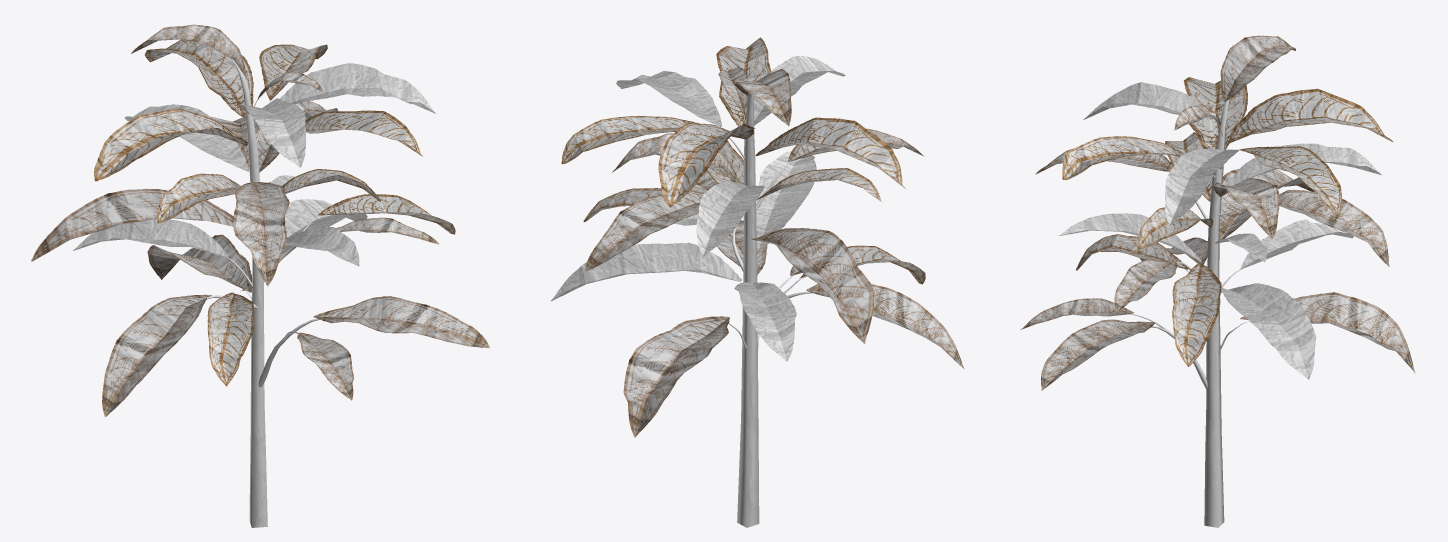
Rendered from sapling-v6.gltf.
3 renders of one model, left to right at view 1: azimuth 30°, elevation 25°; view 2: azimuth 150°, elevation 25°; view 3: azimuth 270°, elevation 25°, orthographic. The views are drawn at different scales.
Visible parts, largest first — view 1: tree.022, 18-ppleaf-full.020, 12-ppleaf-full.019, 22-ppleaf-full.017, 5-ppleaf-mid.013, 10-ppleaf-full.010, 6-ppleaf-none.006, 19-ppleaf-mid.015, 5-ppleaf-mid.001, 17-ppleaf-none.015, 20-ppleaf-full.014, 2-ppleaf-none.014 (+13 smaller); view 2: tree.022, 20-ppleaf-full.014, 12-ppleaf-full.019, 21-ppleaf-none.003, 5-ppleaf-mid.001, 5-ppleaf-mid.013, 8-ppleaf-full.006, 17-ppleaf-none.015, 14-ppleaf-none.002, 7-ppleaf-none.005, 18-ppleaf-full.020, 3-ppleaf-mid.014 (+12 smaller); view 3: tree.022, 21-ppleaf-none.003, 5-ppleaf-mid.001, 16-ppleaf-mid.002, 20-ppleaf-full.014, 22-ppleaf-full.017, 6-ppleaf-none.006, 8-ppleaf-full.006, 3-ppleaf-mid.014, 0-ppleaf-full.018, 7-ppleaf-mid.011, 5-ppleaf-mid.013 (+15 smaller).
Part boxes in pixels (x1=…): tree.022: x1=206, y1=56, x2=326, y2=527; 18-ppleaf-full.020: x1=102, y1=294, x2=211, y2=416; 12-ppleaf-full.019: x1=31, y1=188, x2=233, y2=261; 22-ppleaf-full.017: x1=313, y1=296, x2=489, y2=348; 5-ppleaf-mid.013: x1=94, y1=108, x2=247, y2=181; 10-ppleaf-full.010: x1=233, y1=182, x2=289, y2=286; 6-ppleaf-none.006: x1=280, y1=63, x2=435, y2=113; 19-ppleaf-mid.015: x1=207, y1=292, x2=254, y2=386; 5-ppleaf-mid.001: x1=144, y1=39, x2=253, y2=118; 17-ppleaf-none.015: x1=73, y1=219, x2=227, y2=257; 20-ppleaf-full.014: x1=147, y1=234, x2=251, y2=292; 2-ppleaf-none.014: x1=239, y1=98, x2=305, y2=167; tree.022: x1=720, y1=93, x2=812, y2=527; 20-ppleaf-full.014: x1=623, y1=316, x2=729, y2=437; 12-ppleaf-full.019: x1=751, y1=228, x2=873, y2=343; 21-ppleaf-none.003: x1=551, y1=242, x2=741, y2=301; 5-ppleaf-mid.001: x1=658, y1=123, x2=754, y2=207; 5-ppleaf-mid.013: x1=755, y1=117, x2=905, y2=188; 8-ppleaf-full.006: x1=585, y1=190, x2=704, y2=271; 17-ppleaf-none.015: x1=734, y1=282, x2=796, y2=361; 14-ppleaf-none.002: x1=756, y1=151, x2=816, y2=250; 7-ppleaf-none.005: x1=696, y1=180, x2=764, y2=256; 18-ppleaf-full.020: x1=806, y1=284, x2=964, y2=369; 3-ppleaf-mid.014: x1=561, y1=115, x2=699, y2=164; tree.022: x1=1128, y1=99, x2=1249, y2=527; 21-ppleaf-none.003: x1=1221, y1=283, x2=1316, y2=379; 5-ppleaf-mid.001: x1=1228, y1=88, x2=1392, y2=143; 16-ppleaf-mid.002: x1=1172, y1=262, x2=1221, y2=366; 20-ppleaf-full.014: x1=1240, y1=292, x2=1415, y2=373; 22-ppleaf-full.017: x1=1041, y1=319, x2=1154, y2=390; 6-ppleaf-none.006: x1=1165, y1=149, x2=1238, y2=225; 8-ppleaf-full.006: x1=1279, y1=189, x2=1389, y2=266; 3-ppleaf-mid.014: x1=1239, y1=146, x2=1342, y2=216; 0-ppleaf-full.018: x1=1220, y1=35, x2=1295, y2=101; 7-ppleaf-mid.011: x1=1062, y1=136, x2=1184, y2=180; 5-ppleaf-mid.013: x1=1184, y1=77, x2=1247, y2=149.
Size of the model in its own units: 0.8387 by 0.9792 by 0.8152.
4 materials, 4 textured.
